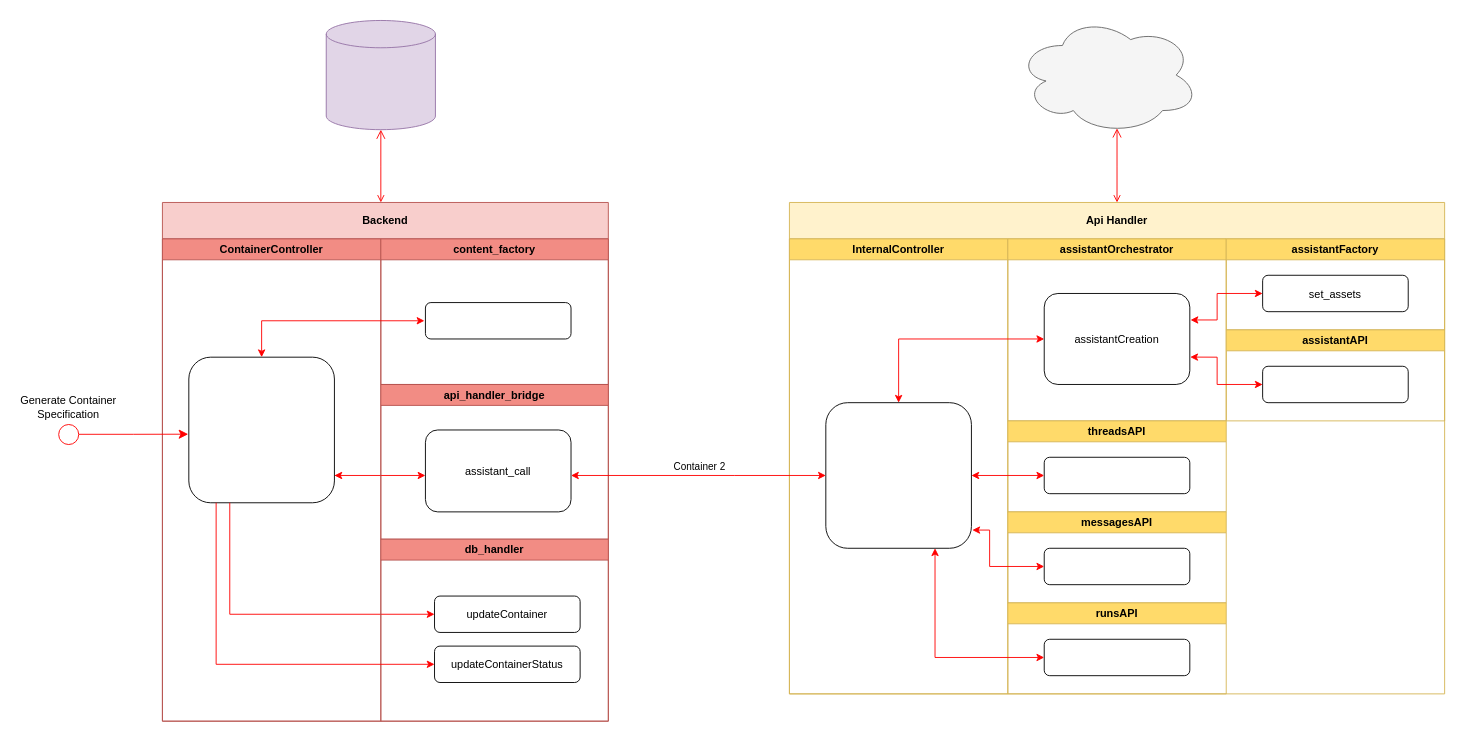
Image size: 1461x737. Some labels were removed from this diagram. Each missing label, with the centre of its shape:
"creationHandler" goes at point (1335, 384).
"generateContainer" goes at point (261, 429).
"getContainerContent" goes at point (498, 320).
"interrogate" goes at point (898, 475).
"messageCreationHandler" goes at point (1116, 566).
"MongoDB" goes at point (380, 75).
"OpenAI API" goes at point (1107, 74).
"runCreationHandler" goes at point (1116, 657).
"threadCreationHandler" goes at point (1116, 475).
